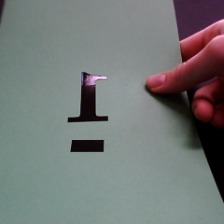green1: (62, 66, 119, 156)
